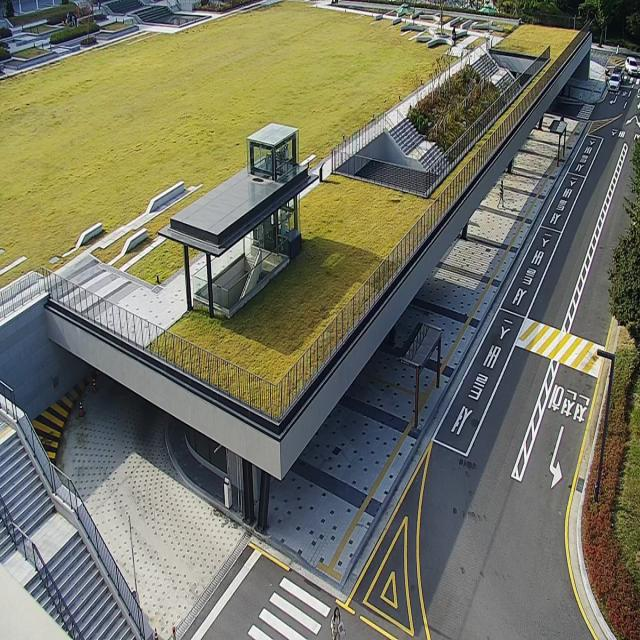queue: (416, 329, 440, 428)
